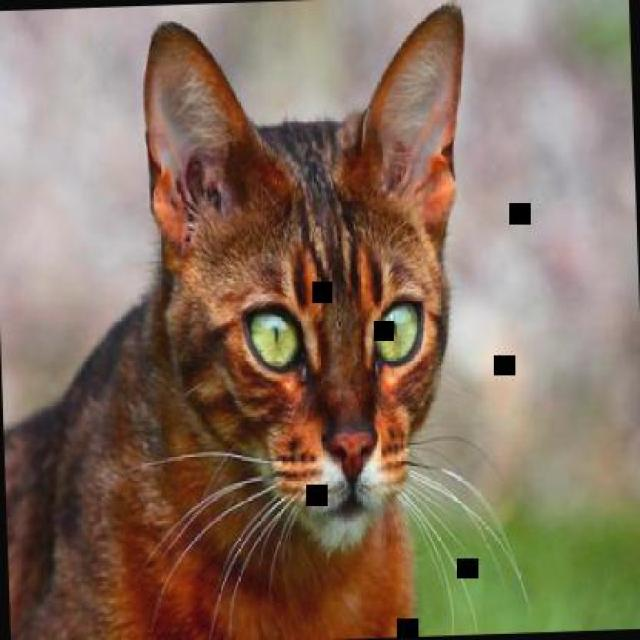cat: (0, 1, 488, 638)
